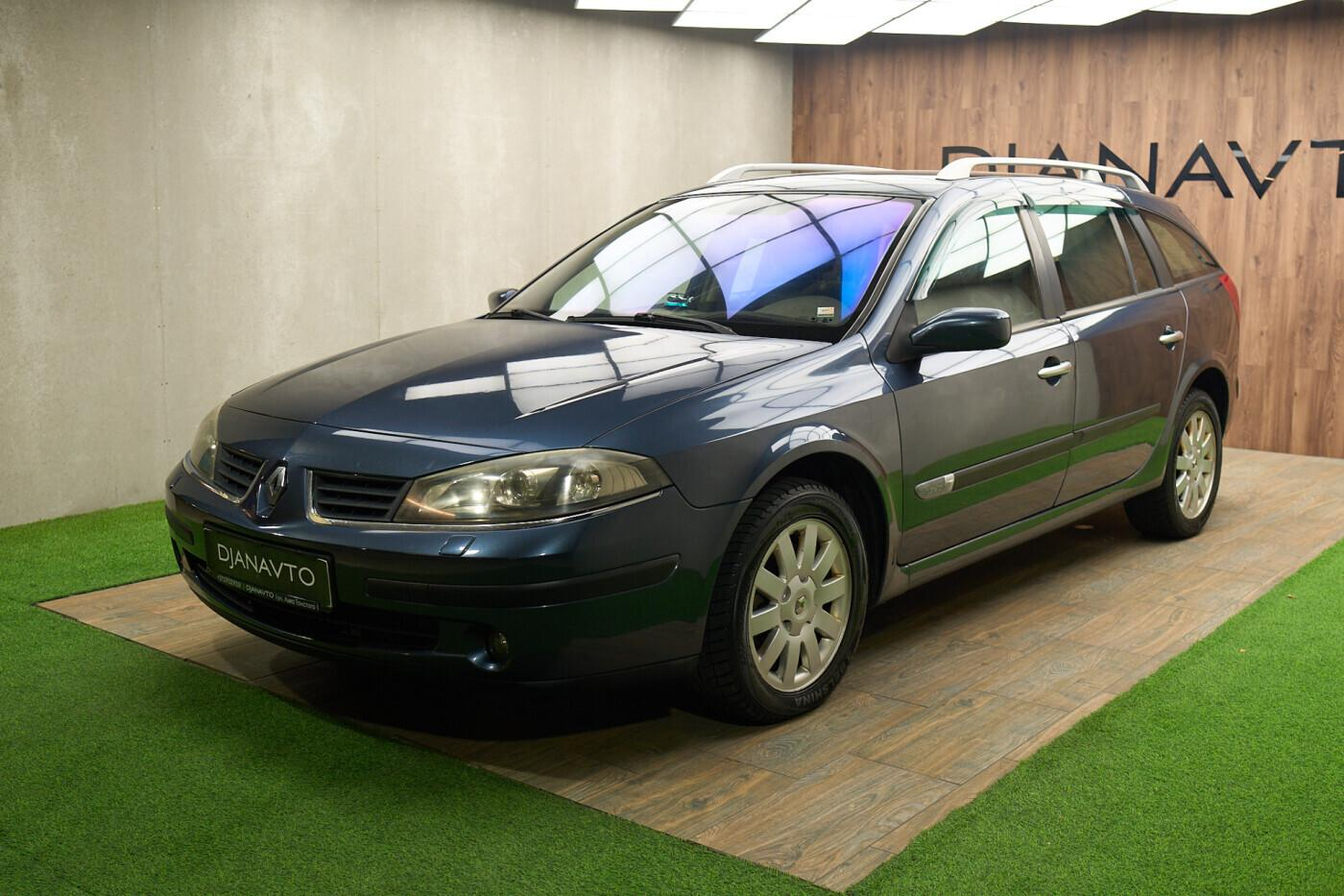Laguna_2005-2007: (148, 150, 1254, 743)
